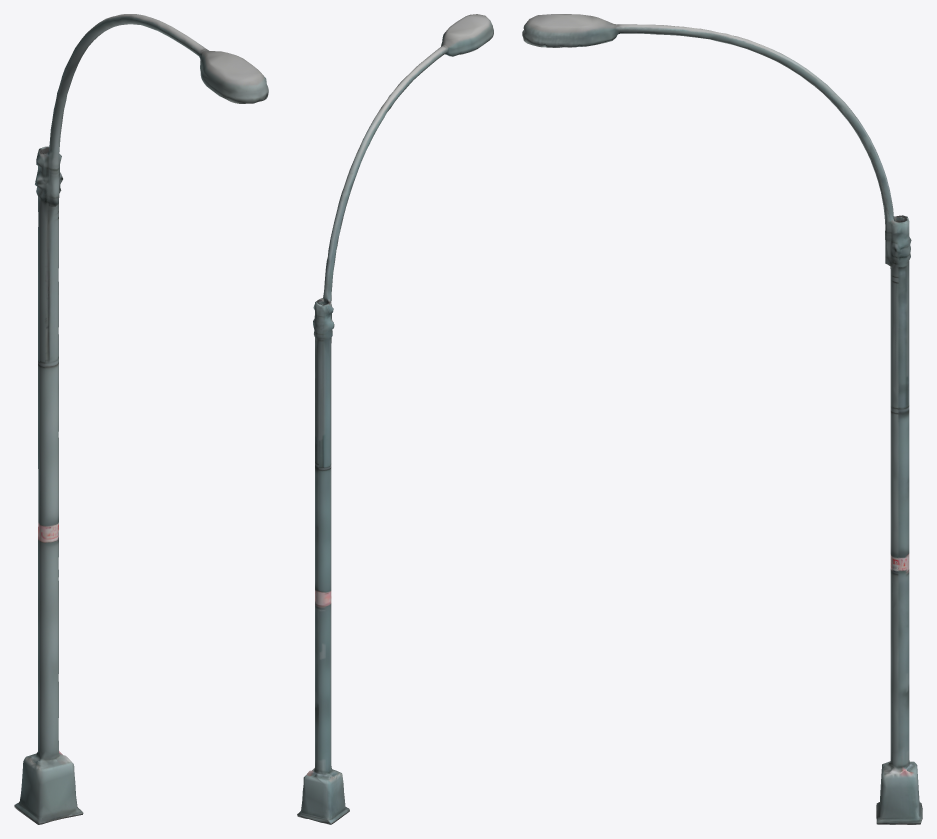
Rendered from sokaklambasi (1).fbx.
3 views of the same model, side by side, from view 1: azimuth 30°, elevation 25°; view 2: azimuth 150°, elevation 25°; view 3: azimuth 270°, elevation 25° (orthographic). The views are drawn at different scales.
Parts seen in each view (by area): view 1: Mesh_0; view 2: Mesh_0; view 3: Mesh_0.
Boxes of the visible parts, left/top/right/bottom form: Mesh_0: left=14, top=14, right=268, bottom=824; Mesh_0: left=297, top=14, right=493, bottom=824; Mesh_0: left=522, top=14, right=922, bottom=824.
Size of the model in its own units: 10.25 by 191 by 87.27.
Materials: 1 (1 with a texture image).
